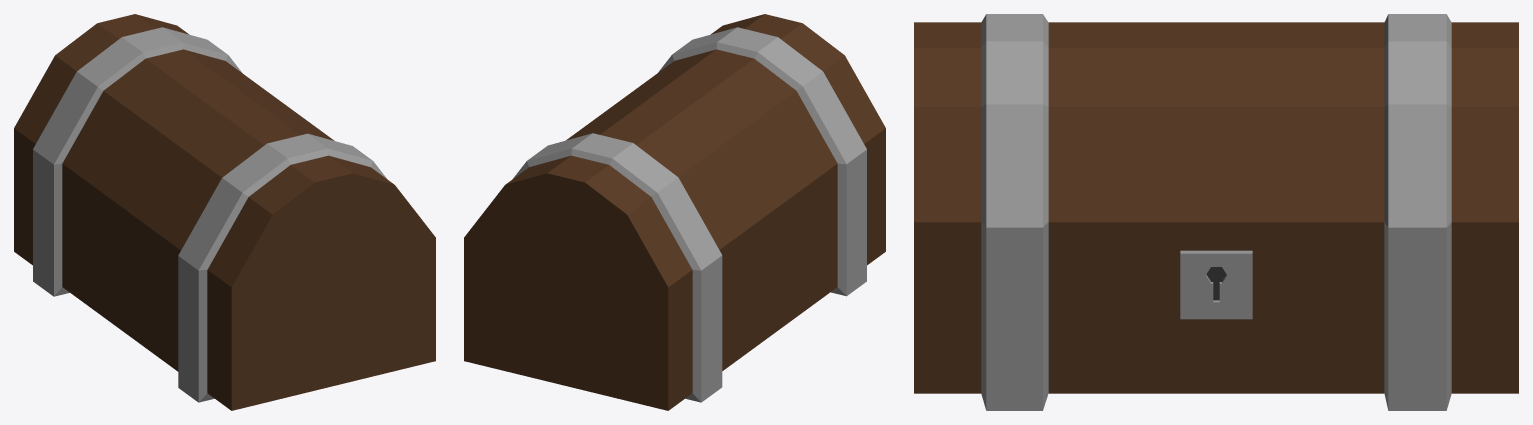
File: chest.fbx
The picture shows the model from 3 angles, left to right: view 1: azimuth 30°, elevation 25°; view 2: azimuth 150°, elevation 25°; view 3: azimuth 270°, elevation 25°; orthographic projection. The views are drawn at different scales.
Parts seen in each view (by area): view 1: Cylinder; view 2: Cylinder; view 3: Cylinder.
Boxes of the visible parts, left/top/right/bottom form: Cylinder: left=14, top=14, right=435, bottom=410; Cylinder: left=464, top=14, right=885, bottom=410; Cylinder: left=914, top=14, right=1518, bottom=410.
Bounding box in the file's own units: 22.07 × 21.48 × 38.08.
